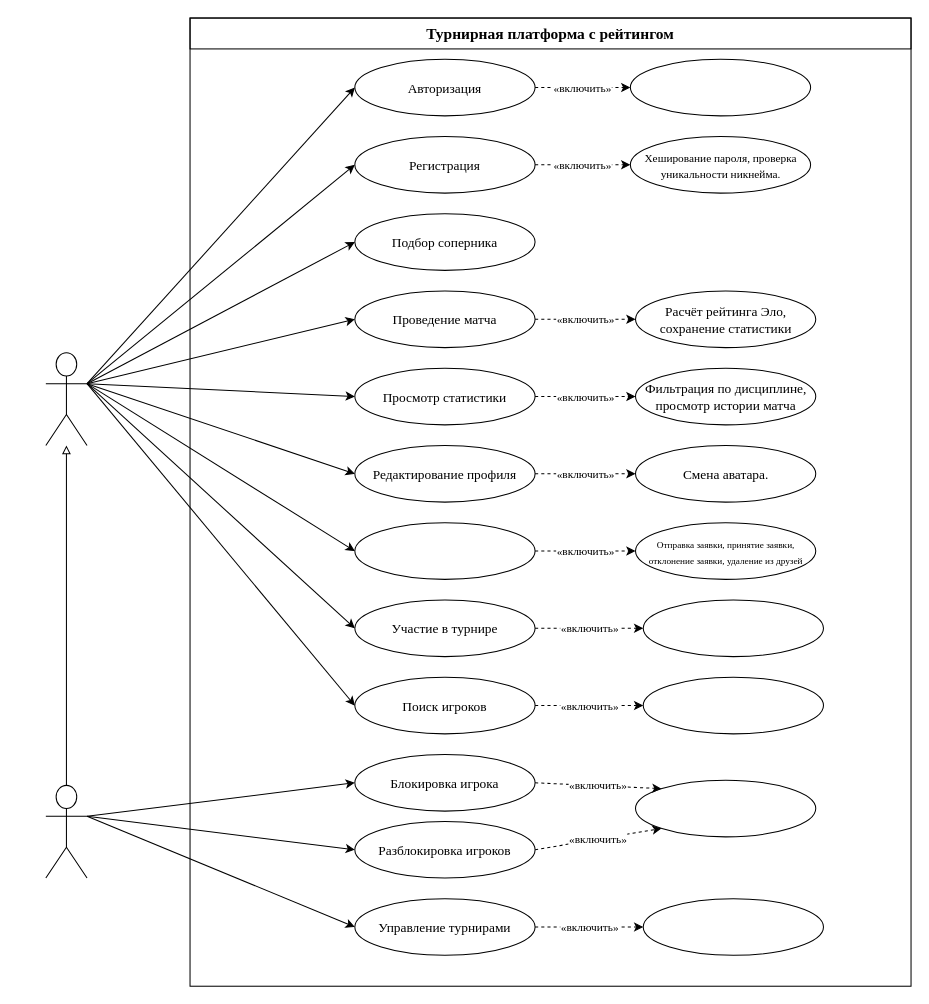
Image size: 929x1004. Some labels were removed from this diagram. The centre of each missing label's shape, as x and y in pixels:
Администратор: the point at 66,831
Ведение списка друзей: the point at 444,550
Игрок: the point at 66,398
Поиск игрока: the point at 725,808
Поиск по никнейму: the point at 732,705
Проверка учетных данных, проверка статуса блокировки.: the point at 720,87
Просмотр турниров, регистрация на турнир: the point at 732,628
Удаление и создание турниров: the point at 732,926
